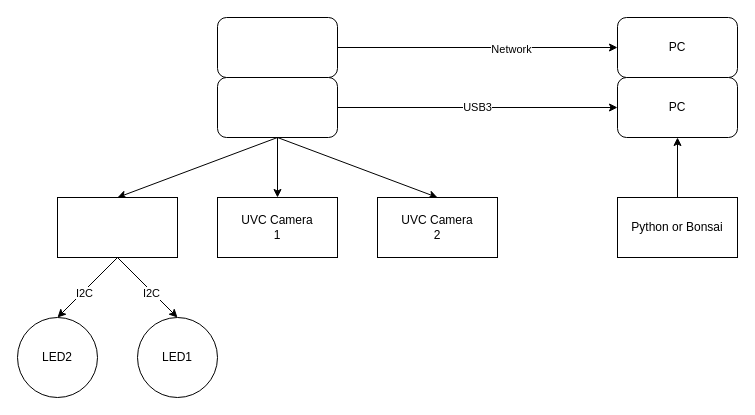
The diagram is 755 pixels wide and 415 high, and some of its shapes have lost their labels. The shapes that lost their labels are listed below. From the top down, each one's box as (x1, y1, x2, y2) in pixels, then its label:
(216, 16, 338, 78): Pi 5
(216, 76, 338, 138): USB Hub
(56, 196, 178, 258): FT2232 or Pico
